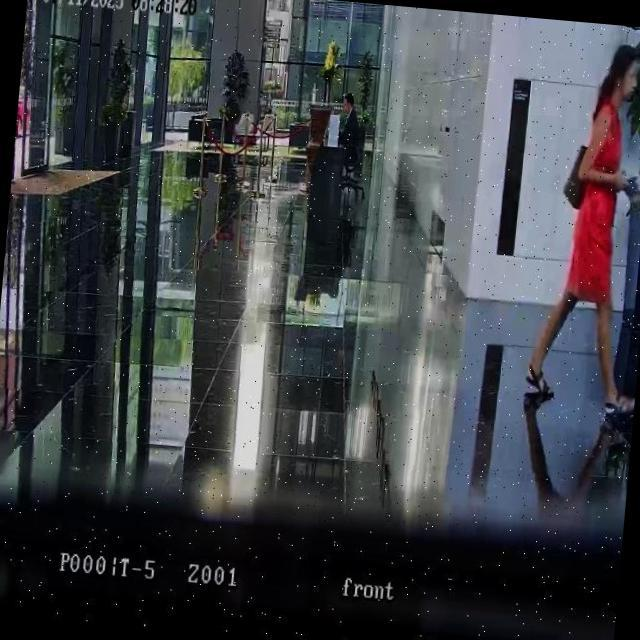person: (521, 38, 640, 426), (335, 90, 362, 176)
